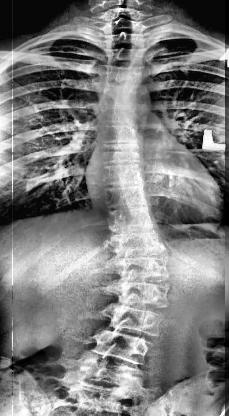Vertebrae: (76, 352, 144, 390), (92, 331, 154, 367), (108, 306, 164, 338), (118, 280, 172, 312), (114, 253, 172, 281), (100, 204, 156, 232), (109, 228, 165, 256), (95, 144, 149, 170), (97, 185, 154, 209), (97, 166, 151, 190), (99, 99, 149, 123), (101, 80, 149, 104), (99, 121, 148, 143), (100, 64, 148, 86), (103, 48, 148, 68), (102, 18, 146, 34), (102, 33, 146, 49)
